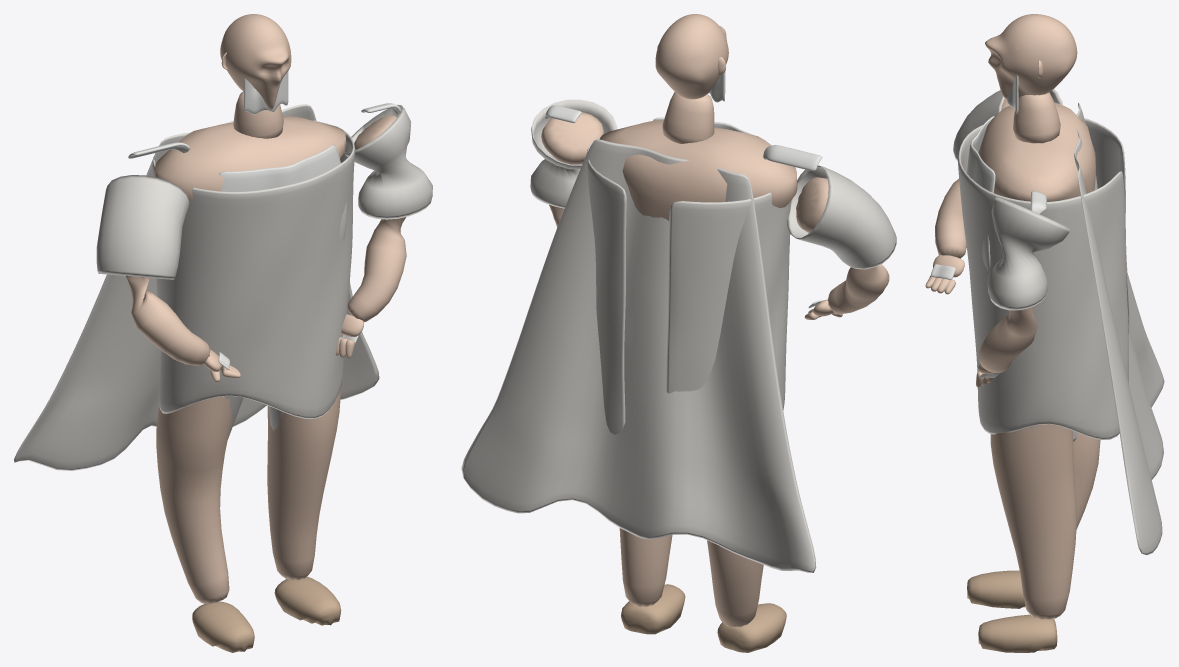
File: foundry_brute.glb
3 views of the same model, side by side, from view 1: azimuth 30°, elevation 25°; view 2: azimuth 150°, elevation 25°; view 3: azimuth 270°, elevation 25° (orthographic). The views are drawn at different scales.
Parts seen in each view (by area): view 1: Robe, Cape, LegR, LegL, SleeveR, Body, SleeveL, Head, ArmL, ArmR, Plate, BootR (+3 smaller); view 2: Cape, Robe, Body, SleeveR, Head, LegR, ArmR, SleeveL, LegL, ArmL, Neck, BootR (+2 smaller); view 3: Robe, LegL, Cape, Body, SleeveL, Head, BootL, ArmL, Neck, BootR, ArmR, LegR (+3 smaller).
Boxes of the visible parts, x1,y1,x2,y2 form: Robe: (152, 120, 354, 418); Cape: (14, 104, 379, 470); LegR: (156, 396, 232, 603); LegL: (267, 387, 340, 580); SleeveR: (96, 175, 189, 279); Body: (155, 116, 346, 201); SleeveL: (344, 104, 432, 219); Head: (220, 14, 291, 109); ArmL: (347, 115, 406, 322); ArmR: (126, 275, 210, 365); Plate: (218, 144, 346, 240); BootR: (192, 601, 254, 652); Cape: (461, 139, 816, 572); Robe: (586, 137, 791, 434); Body: (599, 120, 797, 220); SleeveR: (787, 165, 896, 269); Head: (655, 14, 728, 99); LegR: (707, 540, 763, 627); ArmR: (796, 177, 889, 314); SleeveL: (530, 99, 617, 208); LegL: (619, 528, 672, 606); ArmL: (541, 112, 603, 227); Neck: (662, 92, 714, 143); BootR: (717, 603, 786, 652); Robe: (958, 118, 1129, 439); LegL: (990, 424, 1076, 619); Cape: (1074, 102, 1164, 555); Body: (978, 102, 1095, 201); SleeveL: (987, 197, 1069, 310); Head: (985, 14, 1077, 99); BootL: (978, 614, 1057, 652); ArmL: (979, 306, 1037, 372); Neck: (1013, 92, 1060, 143); BootR: (967, 570, 1025, 608); ArmR: (935, 98, 1009, 258); LegR: (1073, 432, 1100, 529).
Bounding box in the file's own units: 1.11 × 1.79 × 0.6403.
